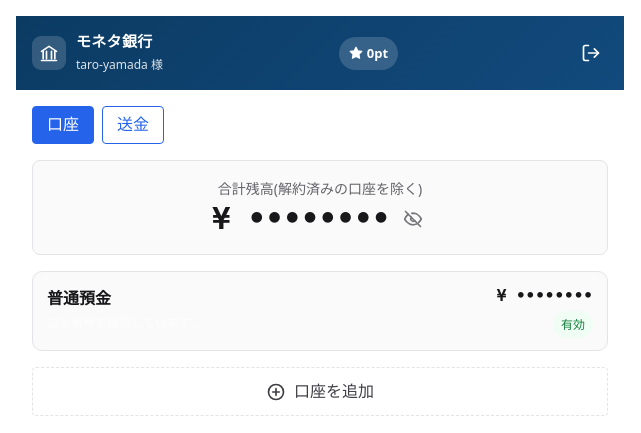
Test: 残高マスクは一覧全体(合計残高・口座カード)に適用される › 目アイコンをクリックすると合計残高・口座カードの残高が両方とも実額表示に変わる
Expected: the text "¥ ••••••••" is shown 2 times, [212,207,390,230]; [497,284,593,307]
Click the button named "残高を表示". click: [413, 219]
box: [398,204,428,234]
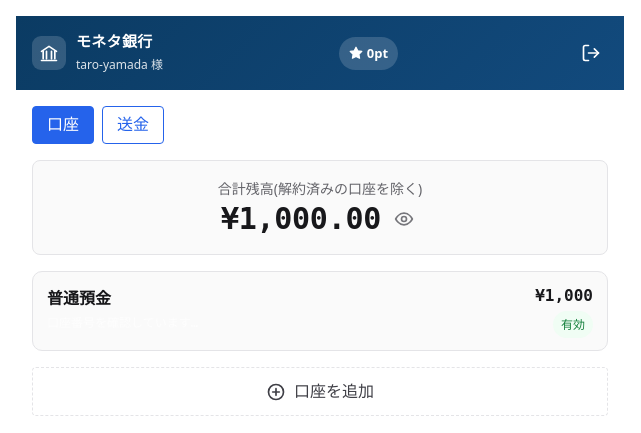
Expected: the text "¥1,000" is shown, [535,284,593,307]
Expected: the text "¥1,000.00" is shown, [221,207,381,230]
Expected: the text "¥ ••••••••" is gone
